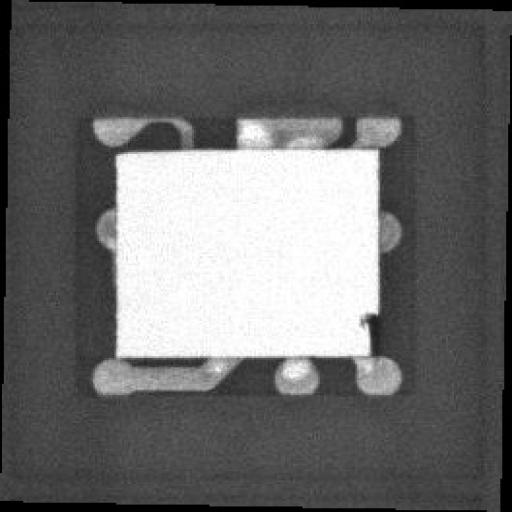DIE_BROKEN: (355, 306, 376, 353)
